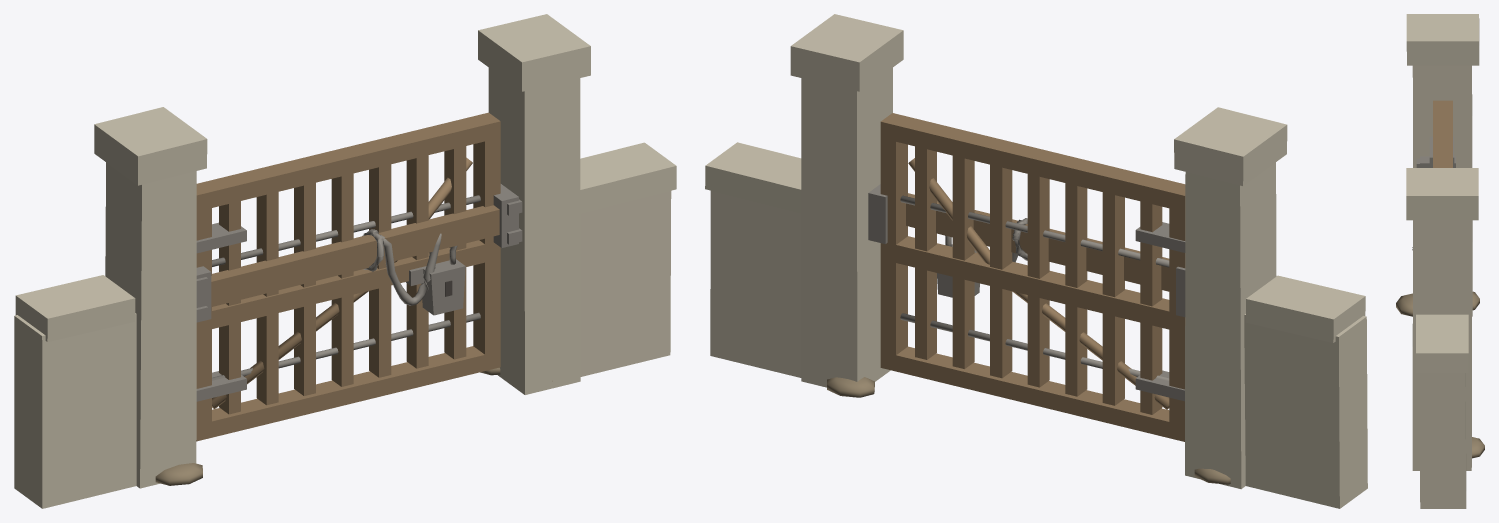
Rendered from burial_gate.glb.
3 renders of one model, left to right at view 1: azimuth 30°, elevation 25°; view 2: azimuth 150°, elevation 25°; view 3: azimuth 270°, elevation 25°, orthographic. The views are drawn at different scales.
Parts seen in each view (by area): view 1: Gate_Posts, Gate_Leaf, Gate_Walls, Gate_Lock; view 2: Gate_Leaf, Gate_Posts, Gate_Walls, Gate_Lock; view 3: Gate_Posts, Gate_Walls, Gate_Leaf, Gate_Lock.
Part boxes in pixels (bbox=[...]): Gate_Posts: bbox=[94, 14, 590, 488]; Gate_Leaf: bbox=[196, 112, 500, 441]; Gate_Walls: bbox=[14, 142, 676, 508]; Gate_Lock: bbox=[196, 184, 522, 322]; Gate_Leaf: bbox=[880, 113, 1185, 441]; Gate_Posts: bbox=[790, 14, 1287, 489]; Gate_Walls: bbox=[705, 142, 1367, 508]; Gate_Lock: bbox=[868, 184, 1185, 317]; Gate_Posts: bbox=[1396, 14, 1484, 470]; Gate_Walls: bbox=[1416, 314, 1468, 508]; Gate_Leaf: bbox=[1429, 100, 1454, 167]; Gate_Lock: bbox=[1412, 156, 1455, 250].
Size of the model in its own units: 3.66 by 1.86 by 0.5392.
